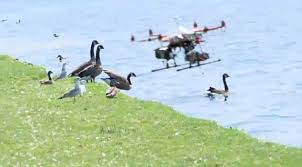goose: (69, 38, 101, 77), (202, 70, 237, 104), (76, 44, 106, 81), (103, 67, 139, 93), (37, 67, 56, 88)
